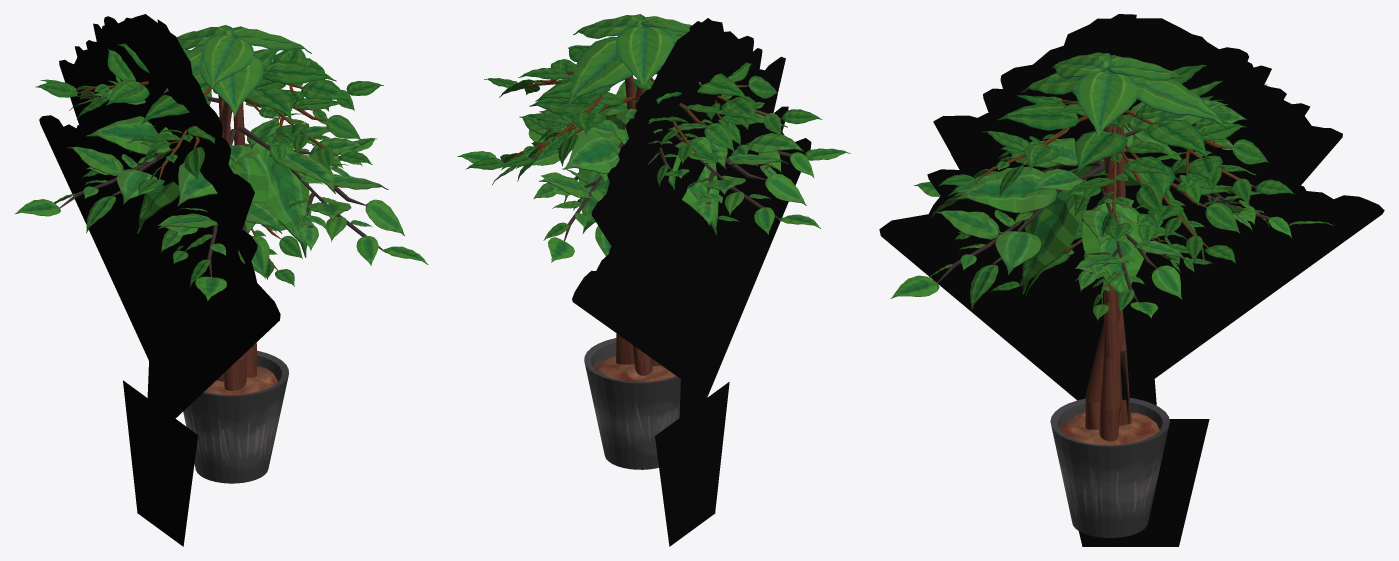
The model's file is PlantOutline.fbx.
3 views of the same model, side by side, from view 1: azimuth 30°, elevation 25°; view 2: azimuth 150°, elevation 25°; view 3: azimuth 270°, elevation 25° (orthographic). The views are drawn at different scales.
Visible parts, largest first — view 1: Plane, TwigAlt.003, Pot, TwigAlt.002, TwigAlt.001, Twig.007, Twig.009, Twig.005, Twig.010, Leaf.006, TwigAlt.004, Leaf.003 (+8 smaller); view 2: Plane, Pot, TwigAlt, TwigAlt.001, Twig.005, Twig.008, Twig.011, Leaf.005, Leaf.001, TwigAlt.002, Twig.010, Twig.009 (+7 smaller); view 3: Plane, TwigAlt.003, Pot, TwigAlt.004, Twig.008, Twig.009, Twig.011, Twig.007, Root2, Leaf.002, Leaf.001, TwigAlt (+11 smaller).
Boxes of the visible parts, bbox=[...] form: Plane: bbox=[39, 14, 280, 546]; TwigAlt.003: bbox=[238, 125, 428, 265]; Pot: bbox=[183, 350, 288, 483]; TwigAlt.002: bbox=[157, 129, 282, 301]; TwigAlt.001: bbox=[15, 116, 179, 233]; Twig.007: bbox=[246, 70, 372, 170]; Twig.009: bbox=[254, 49, 383, 124]; Twig.005: bbox=[127, 83, 215, 195]; Twig.010: bbox=[35, 43, 149, 119]; Leaf.006: bbox=[201, 34, 253, 89]; TwigAlt.004: bbox=[245, 118, 377, 175]; Leaf.003: bbox=[199, 53, 263, 117]; Plane: bbox=[572, 18, 811, 546]; Pot: bbox=[584, 338, 680, 469]; TwigAlt: bbox=[533, 129, 627, 262]; TwigAlt.001: bbox=[674, 119, 820, 235]; Twig.005: bbox=[660, 62, 822, 145]; Twig.008: bbox=[501, 77, 615, 169]; Twig.011: bbox=[465, 92, 635, 181]; Leaf.005: bbox=[615, 25, 673, 91]; Leaf.001: bbox=[566, 37, 633, 107]; TwigAlt.002: bbox=[720, 113, 850, 178]; Twig.010: bbox=[633, 70, 734, 164]; Twig.009: bbox=[484, 45, 590, 97]; Plane: bbox=[879, 14, 1384, 546]; TwigAlt.003: bbox=[890, 164, 1105, 310]; Pot: bbox=[1050, 398, 1169, 537]; TwigAlt.004: bbox=[1075, 187, 1186, 318]; Twig.008: bbox=[1124, 104, 1295, 205]; Twig.009: bbox=[1066, 114, 1168, 242]; Twig.011: bbox=[1123, 142, 1240, 263]; Twig.007: bbox=[938, 102, 1088, 197]; Root2: bbox=[1099, 114, 1123, 441]; Leaf.002: bbox=[1075, 71, 1137, 139]; Leaf.001: bbox=[1127, 75, 1226, 128]; TwigAlt: bbox=[1124, 152, 1333, 264].
Size of the model in its own units: 737 by 983 by 844.
